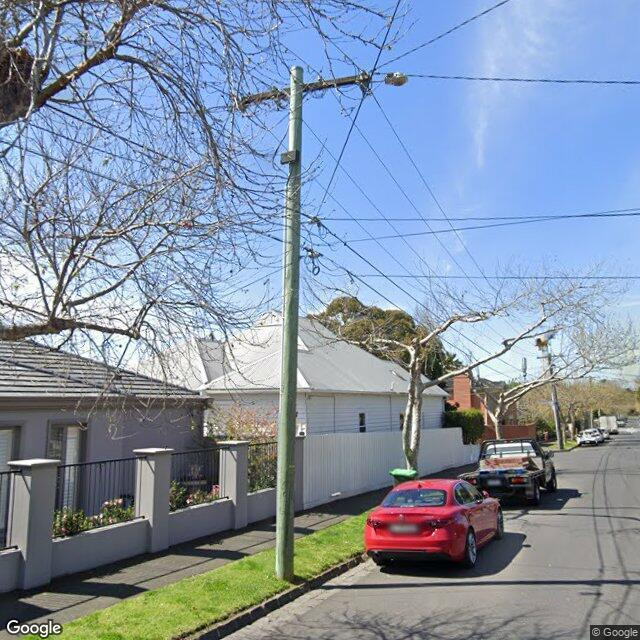crossarm: (235, 74, 371, 107), (536, 355, 564, 359)
streetlight: (368, 72, 408, 87)
timber-pole: (275, 66, 304, 582), (548, 354, 564, 449)
